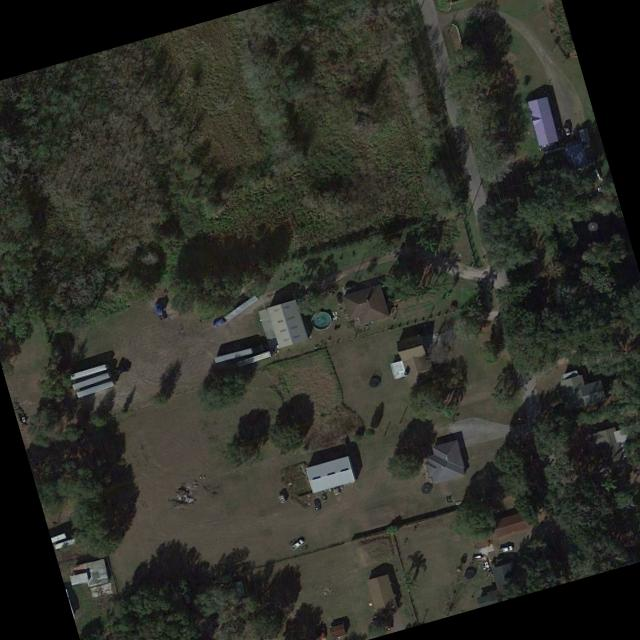large-vehicle: (209, 294, 258, 329), (69, 363, 128, 389), (152, 300, 165, 319)
small-vehicle: (289, 537, 303, 550), (496, 544, 512, 553), (316, 625, 326, 639), (561, 122, 570, 135), (343, 283, 359, 290), (334, 291, 343, 303), (312, 498, 319, 510)
